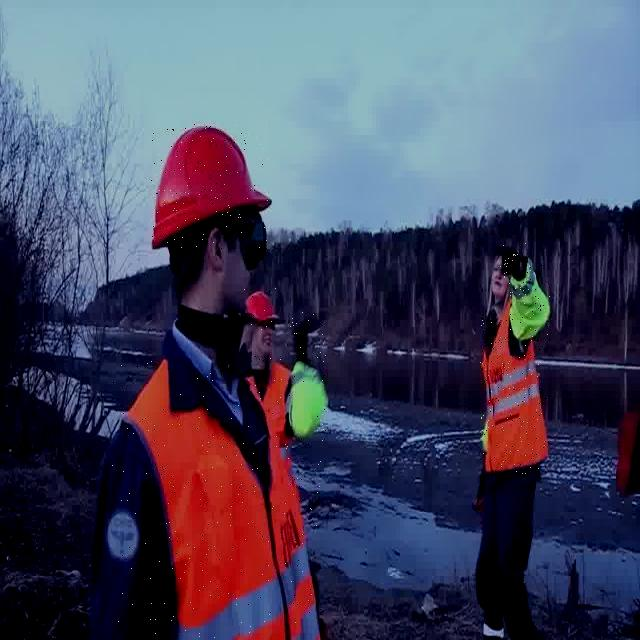helmet: (150, 122, 268, 250), (244, 288, 280, 330)
vest: (112, 361, 322, 640), (480, 317, 546, 476), (252, 356, 294, 445), (288, 352, 326, 446), (508, 262, 550, 341)
